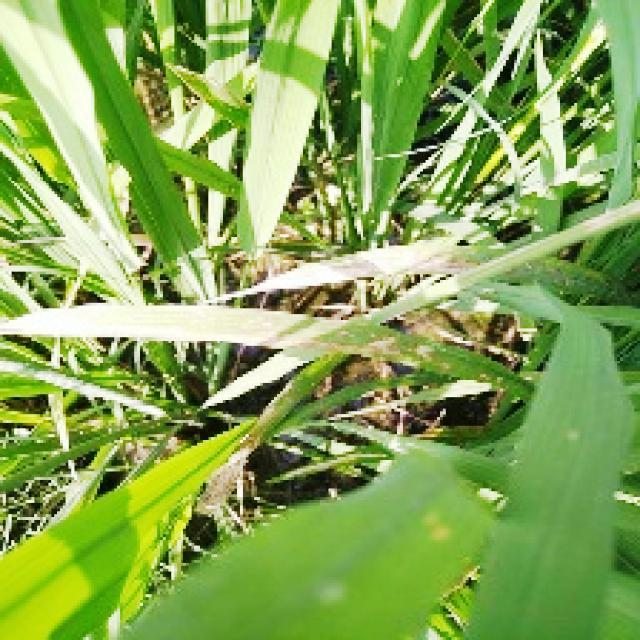health: (29, 323, 637, 640)
